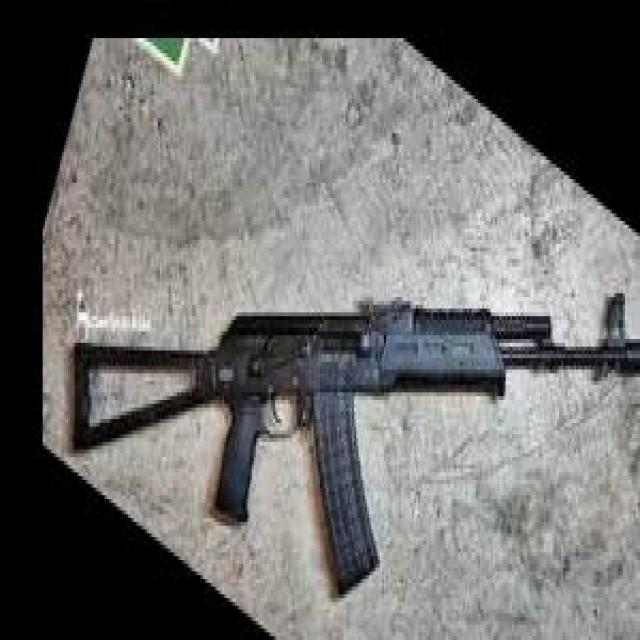weapon: (71, 290, 640, 598)
